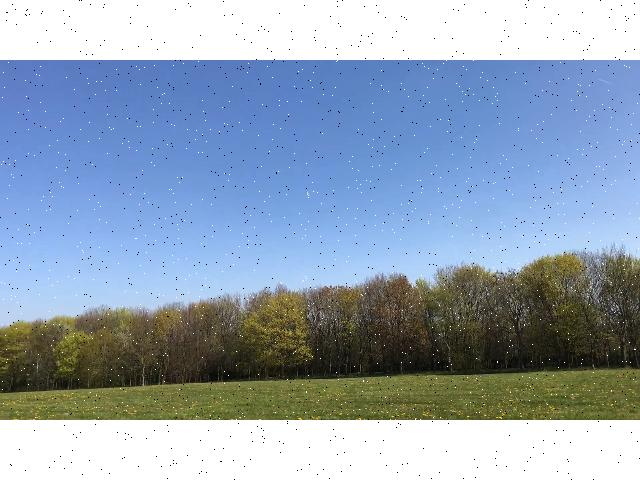Anti-Drone: (298, 184, 318, 200)
